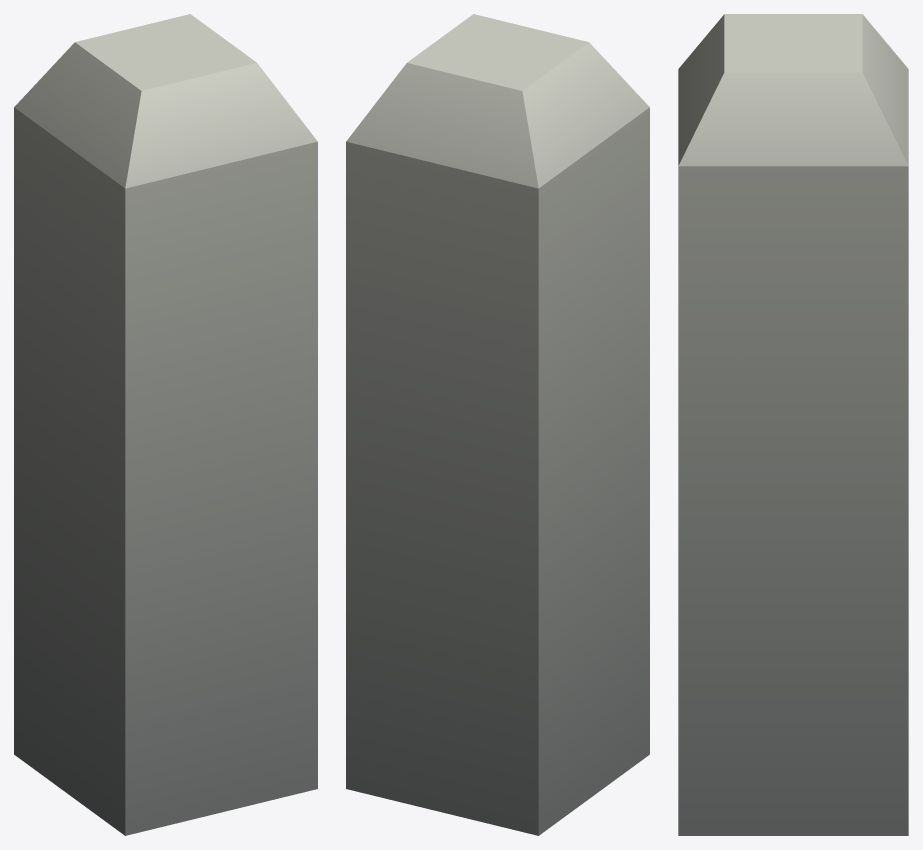
File: Wall_Column_02.fbx
The picture shows the model from 3 angles, left to right: view 1: azimuth 30°, elevation 25°; view 2: azimuth 150°, elevation 25°; view 3: azimuth 270°, elevation 25°; orthographic projection. The views are drawn at different scales.
Parts seen in each view (by area): view 1: Wall_Column_02; view 2: Wall_Column_02; view 3: Wall_Column_02.
Boxes of the visible parts, x1=… form: Wall_Column_02: x1=14, y1=14, x2=317, y2=835; Wall_Column_02: x1=346, y1=14, x2=649, y2=835; Wall_Column_02: x1=678, y1=14, x2=908, y2=835.
Bounding box in the file's own units: 84.06 × 300 × 84.06.
